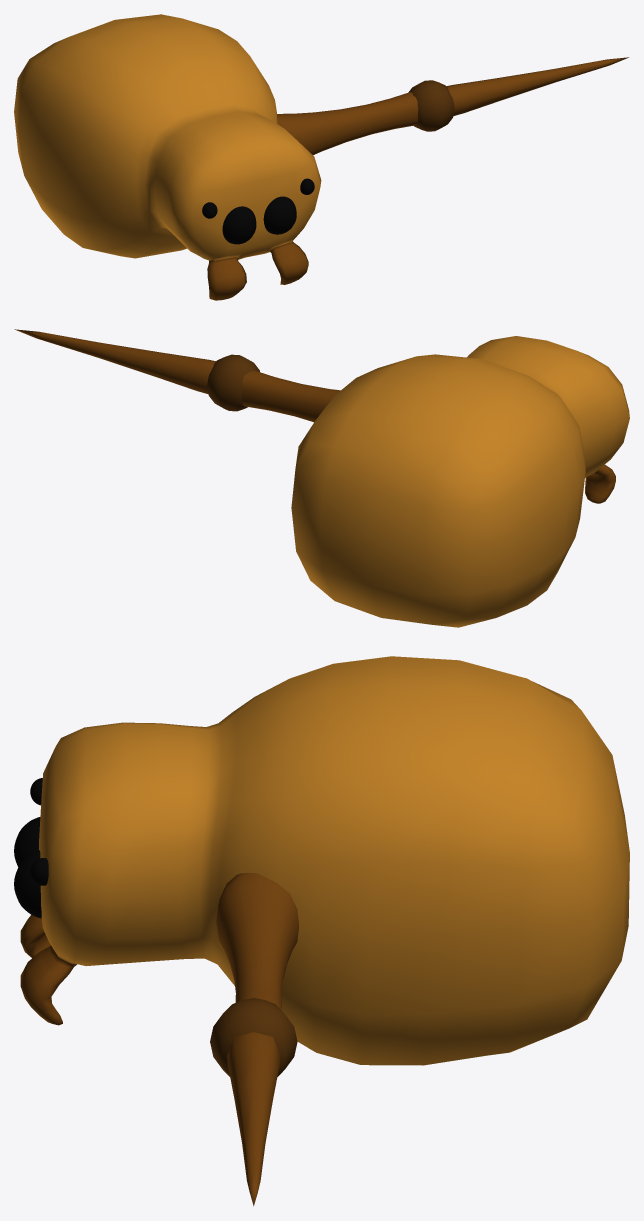
Rendered from pauk.fbx.
3 renders of one model, top to bottom at view 1: azimuth 30°, elevation 25°; view 2: azimuth 150°, elevation 25°; view 3: azimuth 270°, elevation 25°, orthographic. The views are drawn at different scales.
Visible parts, largest first — view 1: Spider Body, Upper Leg, Lower Leg; view 2: Spider Body, Upper Leg, Lower Leg; view 3: Spider Body, Upper Leg, Lower Leg.
Part boxes in pixels (<box>): Spider Body: <box>14,14,321,300</box>; Upper Leg: <box>277,80,454,154</box>; Lower Leg: <box>446,57,628,115</box>; Spider Body: <box>291,336,629,627</box>; Upper Leg: <box>206,354,340,422</box>; Lower Leg: <box>14,329,215,393</box>; Spider Body: <box>14,656,629,1065</box>; Upper Leg: <box>210,873,298,1076</box>; Lower Leg: <box>227,1032,280,1206</box>.
Bounding box in the file's own units: 585 × 214 × 345.
